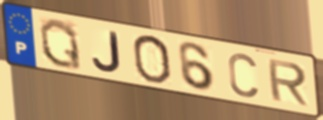6: (177, 41, 218, 94)
C: (226, 51, 261, 100)
J: (90, 29, 123, 74)
O: (130, 34, 173, 85)
Q: (37, 17, 84, 72)
R: (265, 57, 310, 108)
